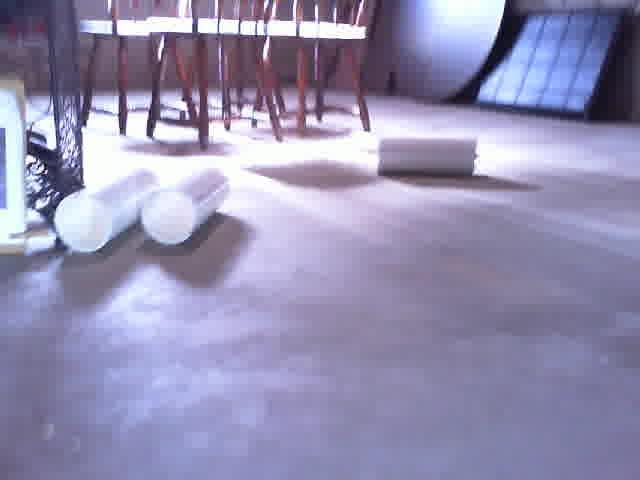coral: (56, 172, 159, 254), (144, 169, 231, 249), (379, 136, 476, 174)
